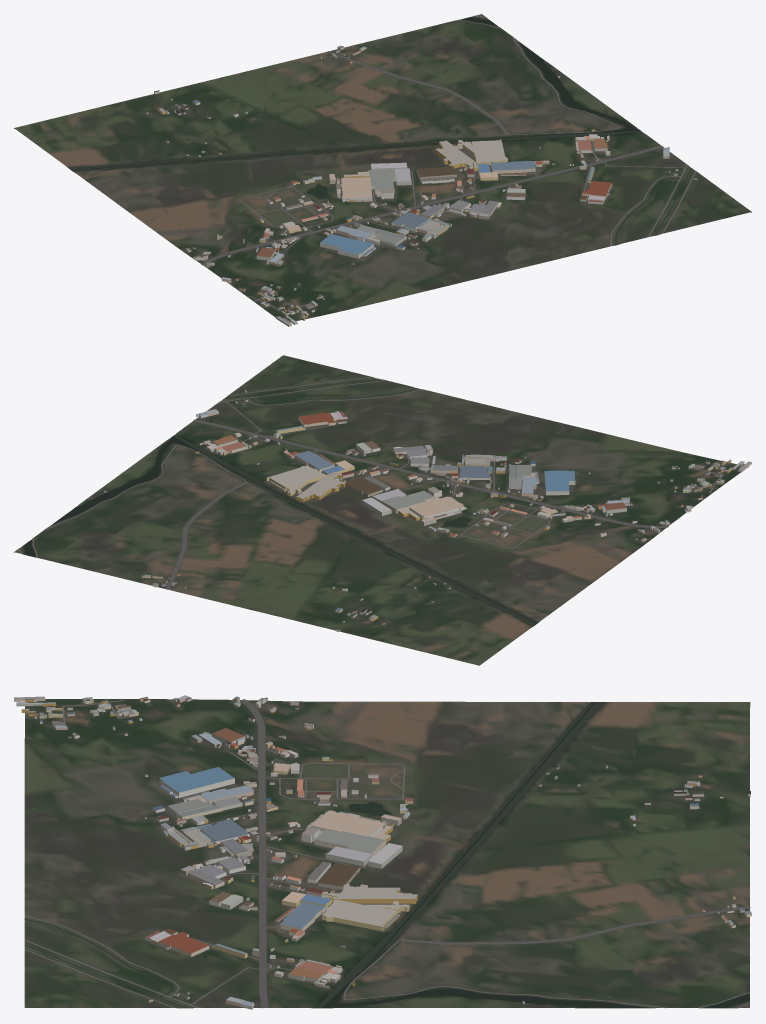
The picture shows the model from 3 angles, top to bottom: view 1: azimuth 30°, elevation 25°; view 2: azimuth 150°, elevation 25°; view 3: azimuth 270°, elevation 25°; orthographic projection. The views are drawn at different scales.
Parts seen in each view (by area): view 1: ground, buildings, water, roads; view 2: ground, buildings, roads, water; view 3: ground, buildings, water, roads.
Boxes of the visible parts, x1,y1,x2,y2 form: ground: [14, 14, 751, 322]; buildings: [146, 45, 697, 326]; water: [68, 17, 691, 245]; roads: [201, 16, 696, 316]; ground: [14, 355, 748, 665]; buildings: [104, 389, 751, 631]; roads: [18, 376, 727, 589]; water: [23, 378, 538, 626]; ground: [24, 699, 750, 1008]; buildings: [14, 695, 751, 1009]; water: [24, 702, 749, 1008]; roads: [24, 698, 750, 1008].
Bounding box in the file's own units: 1413 × 19.96 × 1425.
